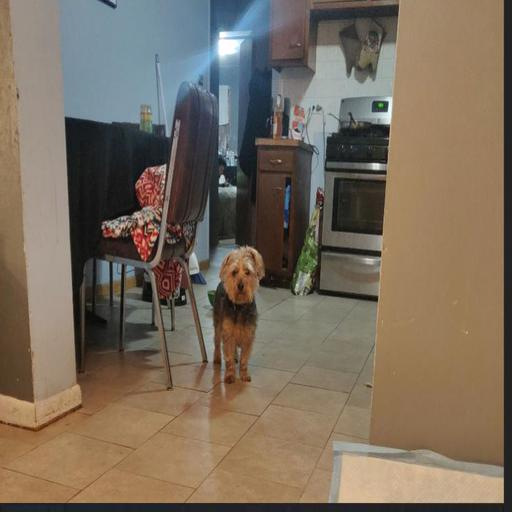dog: (187, 236, 299, 348)
